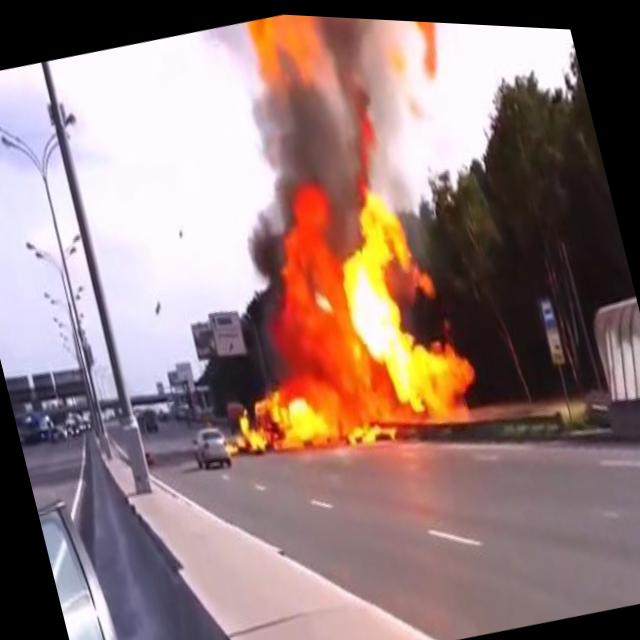fire: (167, 129, 497, 475), (241, 10, 344, 103)
